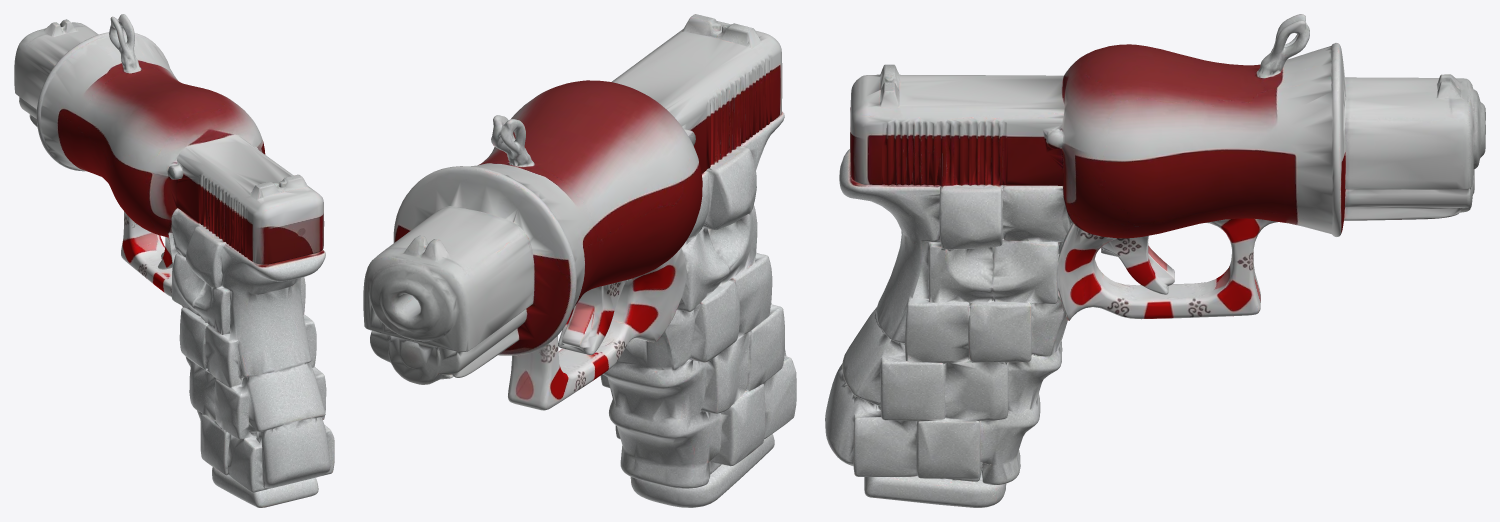
The model's file is hizli_incebelli.glb.
3 views of the same model, side by side, from view 1: azimuth 30°, elevation 25°; view 2: azimuth 150°, elevation 25°; view 3: azimuth 270°, elevation 25° (orthographic). The views are drawn at different scales.
Parts seen in each view (by area): view 1: govde; view 2: govde; view 3: govde.
Part boxes in pixels (x1=…): govde: x1=14, y1=14, x2=334, y2=507; govde: x1=363, y1=14, x2=796, y2=507; govde: x1=825, y1=14, x2=1485, y2=507.
Size of the model in its own units: 0.0629 by 0.1601 by 0.2014.
Materials: 1 (1 with a texture image).
